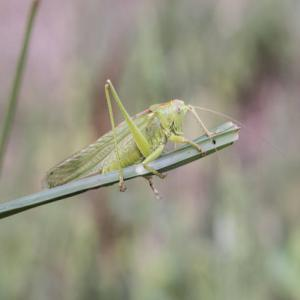locust: (50, 62, 211, 195)
